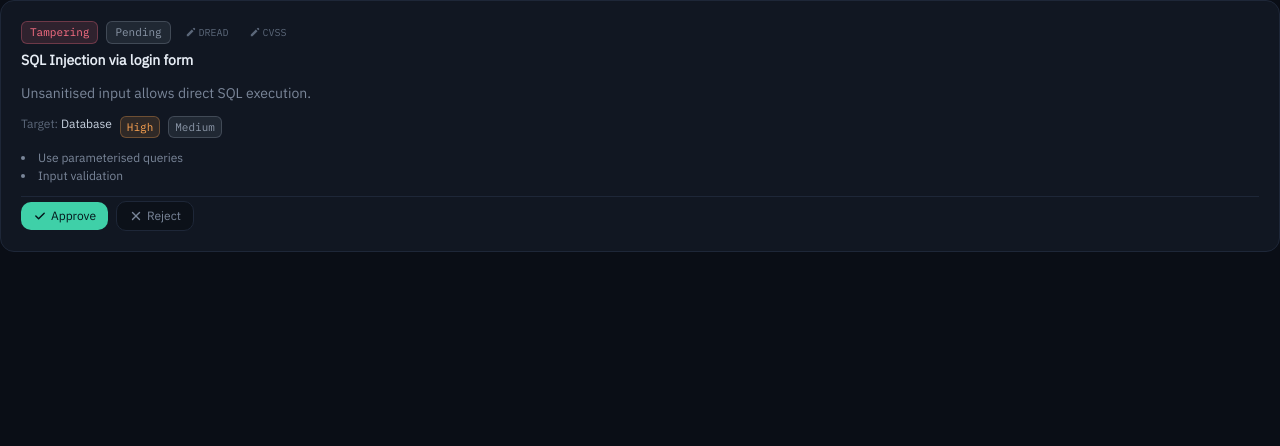
ThreatCard › opens DREAD edit form when DREAD button is clicked
The width and height of the screenshot is (1280, 446).
Click the button "DREAD" at (207, 32), box [179, 23, 235, 42]
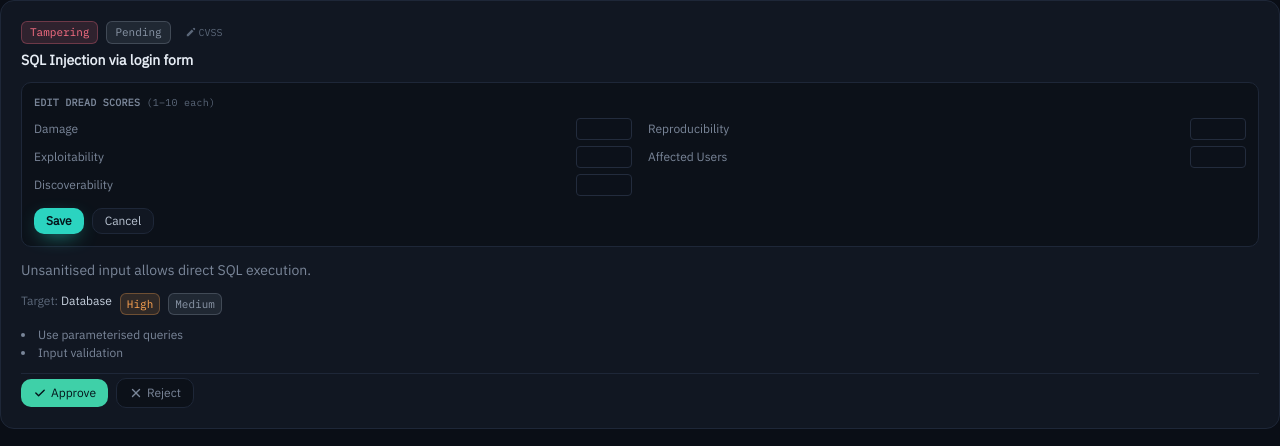
Check: the text "Edit DREAD scores" is shown, box [34, 96, 146, 108]
